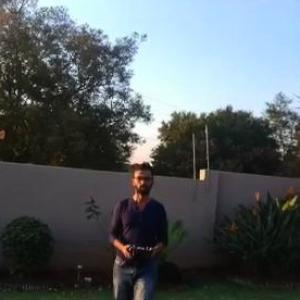follow: (96, 158, 175, 299)
